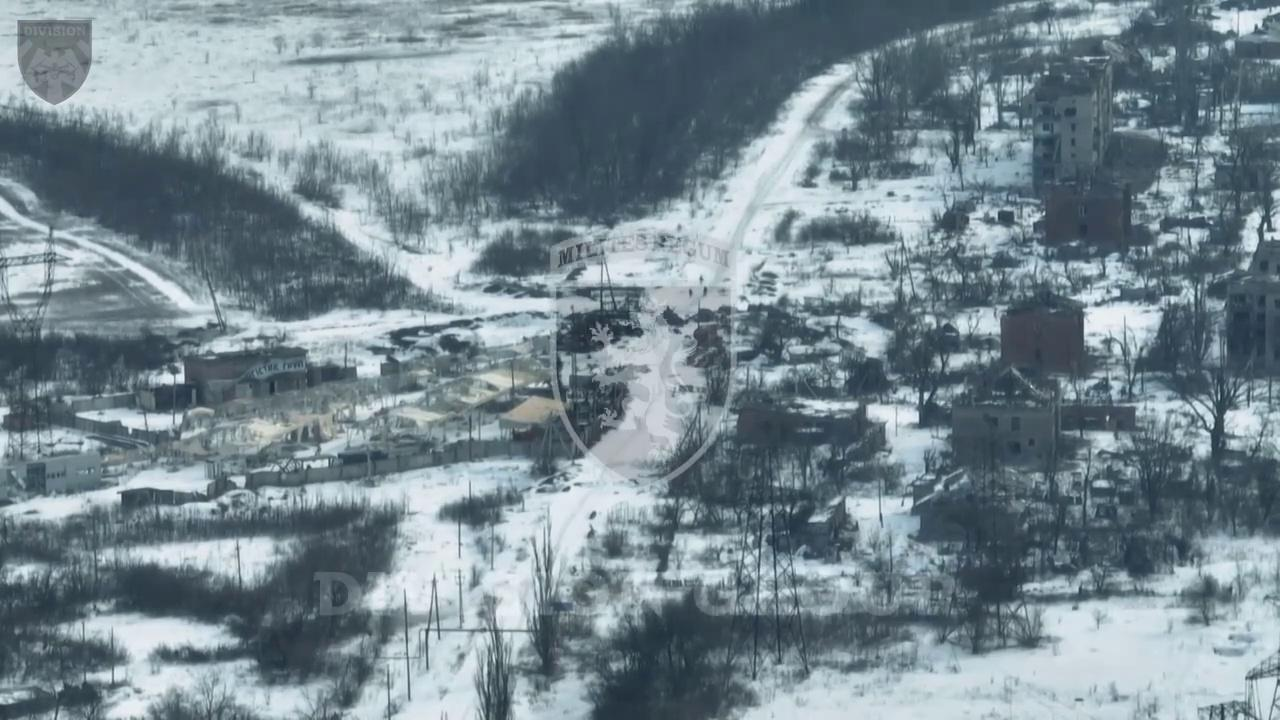person: (702, 286, 708, 296), (700, 274, 704, 285), (688, 288, 692, 298)
